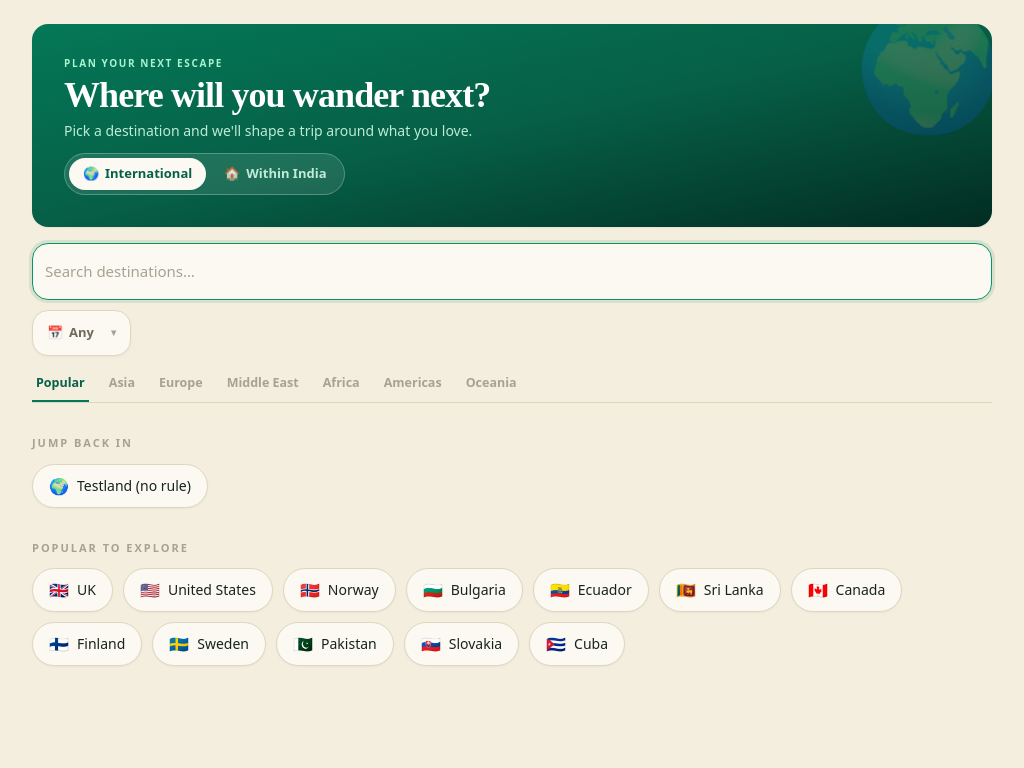
Test: PlanView — guided planner › starts the wizard on the first question after picking a country
The image size is (1024, 768).
Click the button "🌍 Testland (no rule)".
click(120, 486)  # box [32,464,208,508]
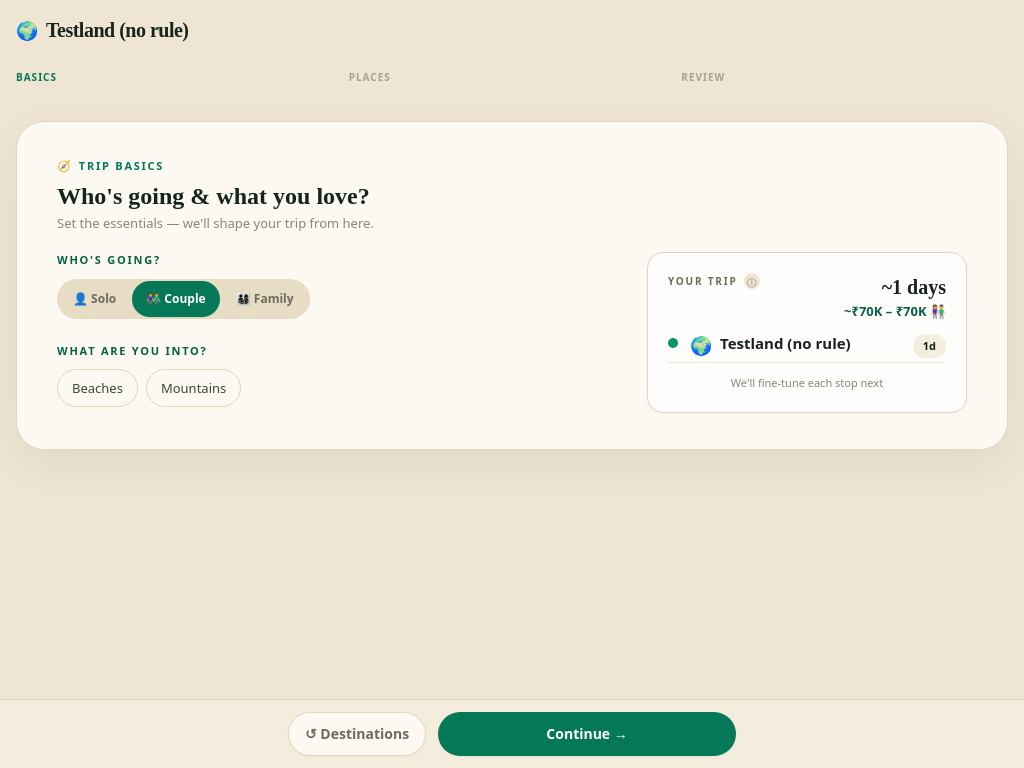
expect the text "Who's going?" is shown: met, box [57,252,161,267]
expect the button "Basics" is shown: met, box [16,56,343,89]
